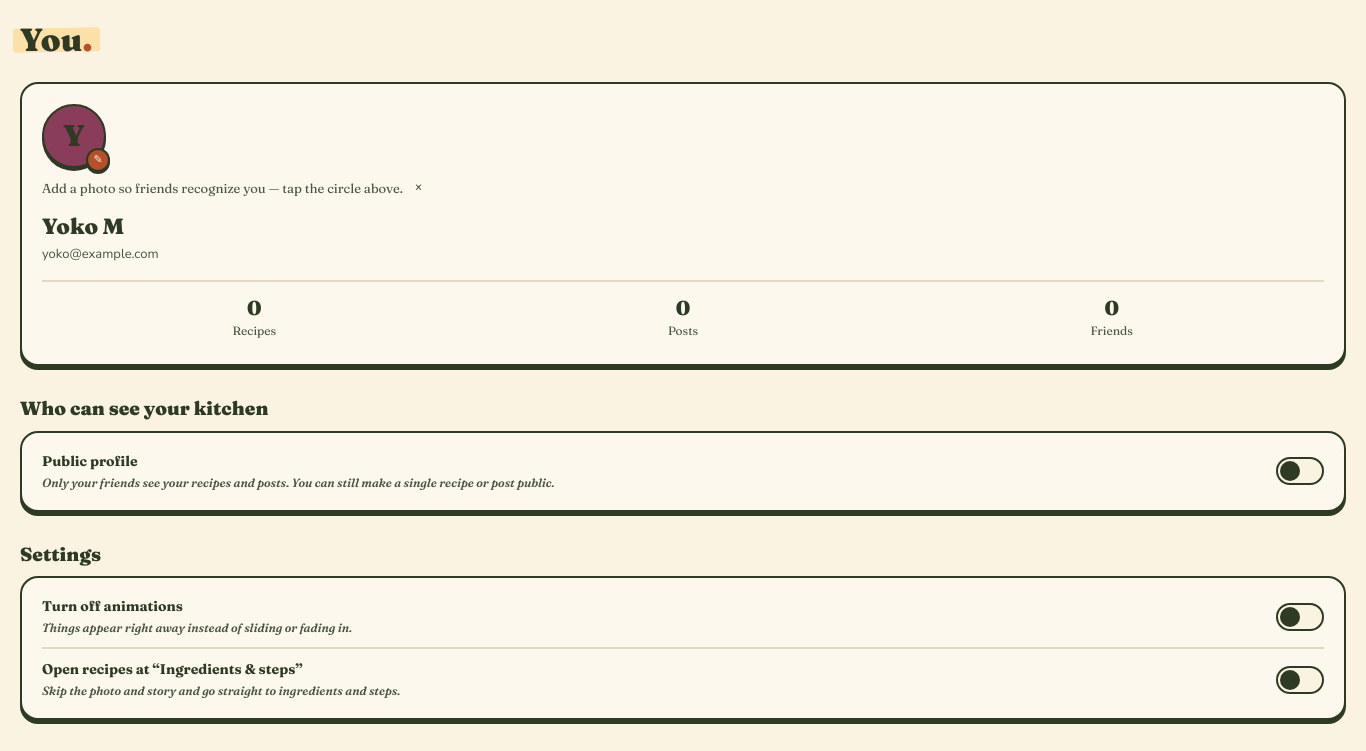
it: Profile visibility toggle (profile-visibility model) › turning the profile ON opens the choice dialog instead of flipping immediately
The image size is (1366, 751).
Click the switch labelled "Public profile": (90, 461) [42,441,1324,502]
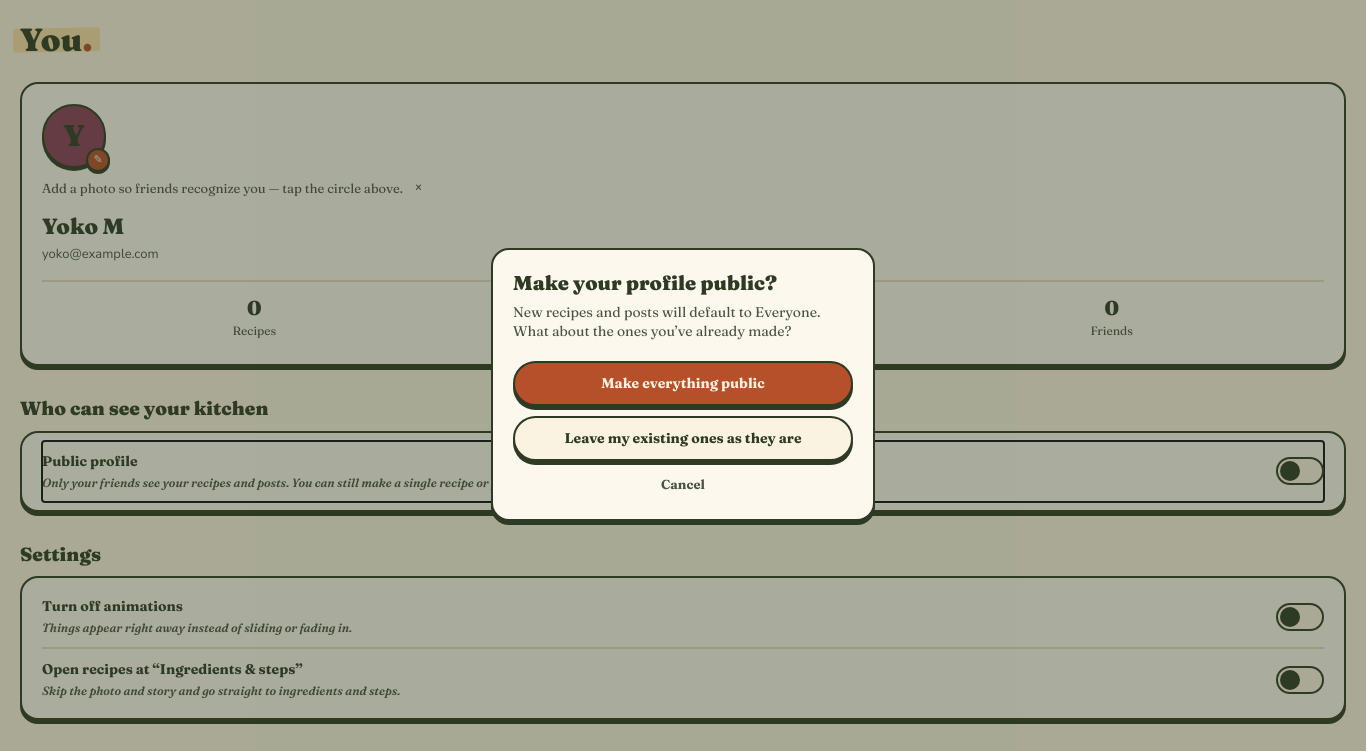
Expected: the heading "Make your profile public?" is shown, [513,270,777,294]
